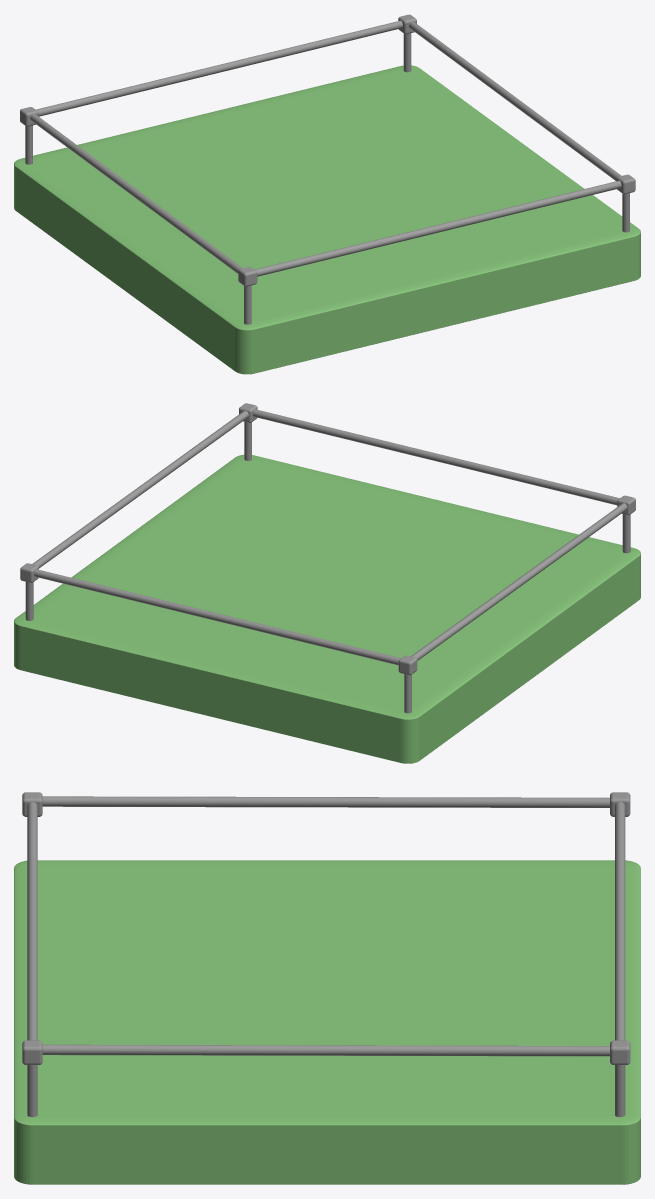
Rendered from startPadNew.fbx.
3 renders of one model, top to bottom at view 1: azimuth 30°, elevation 25°; view 2: azimuth 150°, elevation 25°; view 3: azimuth 270°, elevation 25°, orthographic. The views are drawn at different scales.
Parts seen in each view (by area): view 1: StartPad, Cylinder.004, Cylinder.005, Cylinder.006, Cylinder.007; view 2: StartPad, Cylinder.004, Cylinder.005, Cylinder.006, Cylinder.007; view 3: StartPad, Cylinder.007, Cylinder.006, Cylinder.004, Cylinder.005, Cylinder, Cylinder.003.
Boxes of the visible parts, x1,y1,x2,y2 form: StartPad: (14, 65, 640, 374); Cylinder.004: (254, 180, 621, 276); Cylinder.005: (36, 20, 402, 116); Cylinder.006: (30, 114, 242, 273); Cylinder.007: (409, 21, 621, 181); StartPad: (14, 454, 640, 763); Cylinder.004: (253, 409, 619, 505); Cylinder.005: (34, 569, 400, 665); Cylinder.006: (411, 503, 627, 660); Cylinder.007: (32, 411, 248, 568); StartPad: (14, 860, 640, 1184); Cylinder.007: (42, 1044, 609, 1056); Cylinder.006: (42, 796, 609, 807); Cylinder.004: (27, 802, 37, 1040); Cylinder.005: (615, 802, 625, 1040); Cylinder: (615, 1065, 625, 1117); Cylinder.003: (27, 1065, 37, 1117).
Bounding box in the file's own units: 310 × 73.14 × 310.
